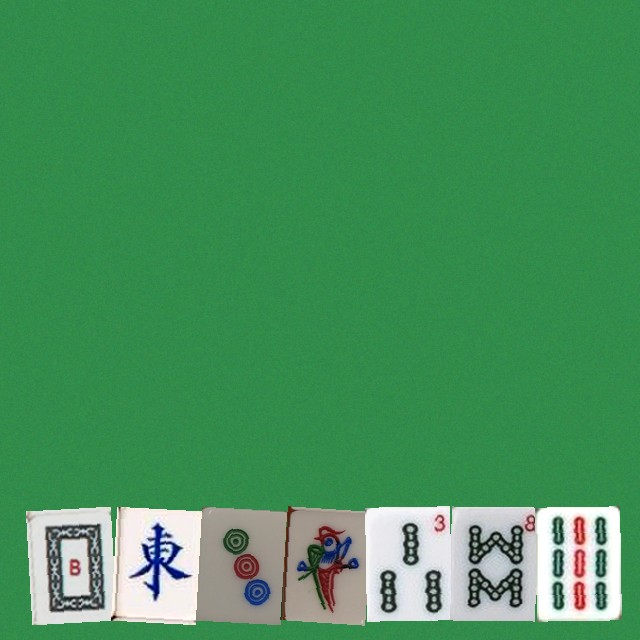tile: (25, 506, 110, 620), (110, 506, 195, 620), (195, 506, 280, 620), (280, 506, 365, 620), (365, 506, 450, 620), (450, 506, 535, 620), (535, 506, 620, 620)
